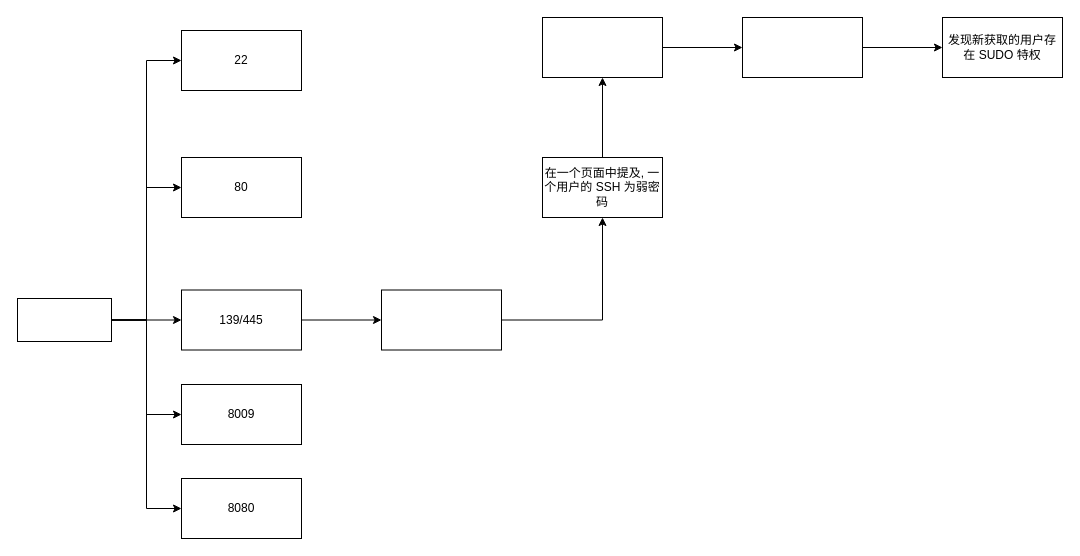
The diagram is 1080 pixels wide and 556 high, and some of its shapes have lost their labels. The shapes that lost their labels are listed below. From the top down, each one's centre as x and y in pixels, then its label:
At pixel 602 47: "进行暴力破解获取到用户密码".
At pixel 802 47: "进行登陆, 随后发现另一个用户的 SSH 私钥可以进行读取下载到本地进行连接".
At pixel 64 320: "端口扫描".
At pixel 441 319: "发现一个可访问的共享目录, 从中获取到两个用户名".
